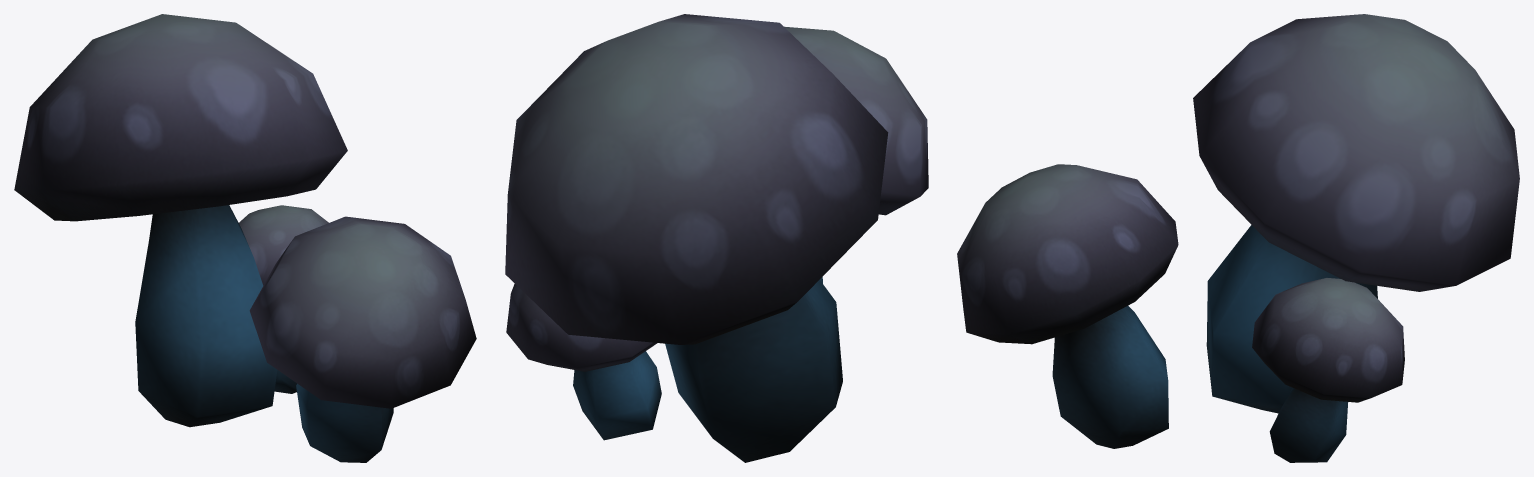
The model's file is Mushroom_01.FBX.
The picture shows the model from 3 angles, left to right: view 1: azimuth 30°, elevation 25°; view 2: azimuth 150°, elevation 25°; view 3: azimuth 270°, elevation 25°; orthographic projection. The views are drawn at different scales.
Parts seen in each view (by area): view 1: Mushroom1; view 2: Mushroom1; view 3: Mushroom1.
Boxes of the visible parts, box(x1,y1,x2,y2) form: Mushroom1: box(14, 14, 476, 462); Mushroom1: box(505, 14, 928, 462); Mushroom1: box(957, 14, 1519, 462).
Bounding box in the file's own units: 22.1 × 25.61 × 33.53.
